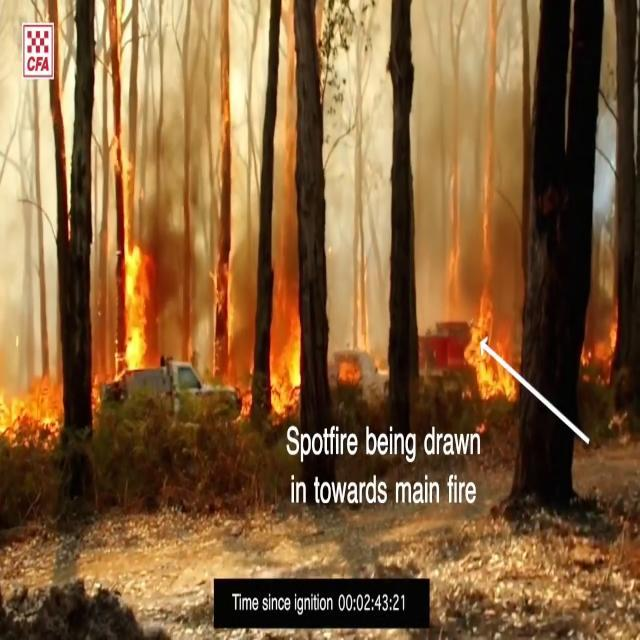Fire: (0, 348, 66, 446), (454, 305, 518, 403), (209, 180, 243, 364), (118, 217, 156, 378), (270, 300, 304, 420)
Smoke: (130, 17, 292, 340), (401, 0, 537, 327)
